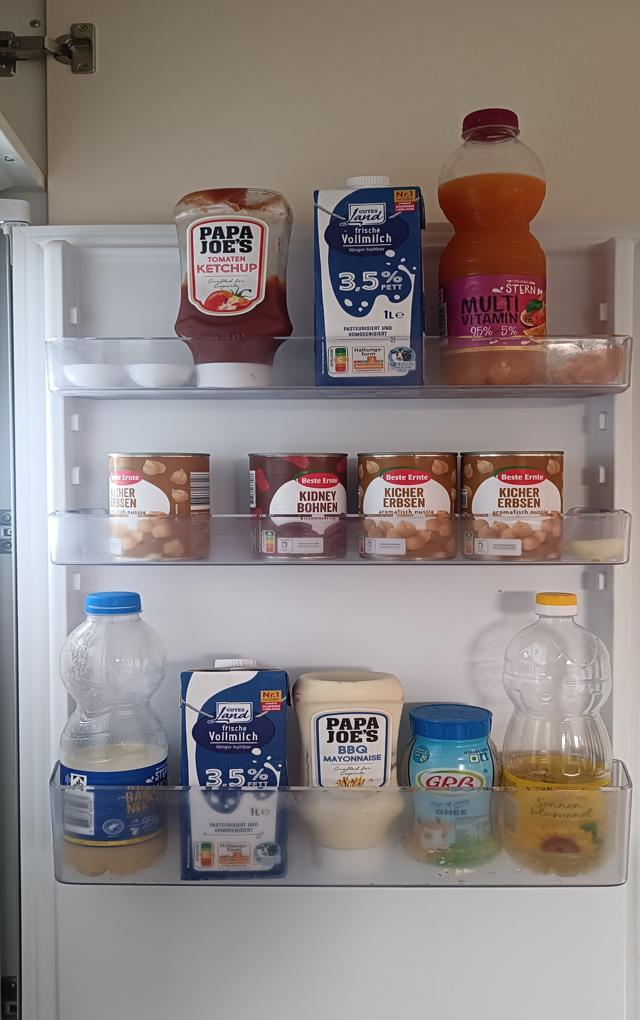bananajuice: (61, 589, 171, 880)
chickpeas: (102, 451, 214, 563), (460, 451, 568, 563), (355, 450, 457, 566)
ghee: (402, 701, 500, 867)
kidneybeans: (246, 453, 349, 565)
mayoniasie: (295, 669, 408, 872)
milk: (312, 177, 425, 399), (182, 658, 292, 881)
oil: (500, 592, 615, 879)
orangejuice: (439, 108, 551, 395)
tomatoketchup: (171, 185, 295, 394)
